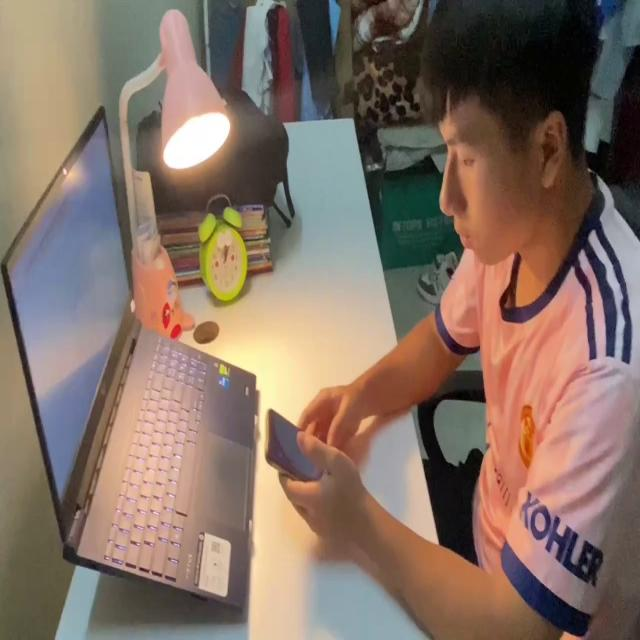laptop: (2, 95, 260, 635)
phone: (261, 401, 328, 481)
student: (280, 0, 640, 640)
